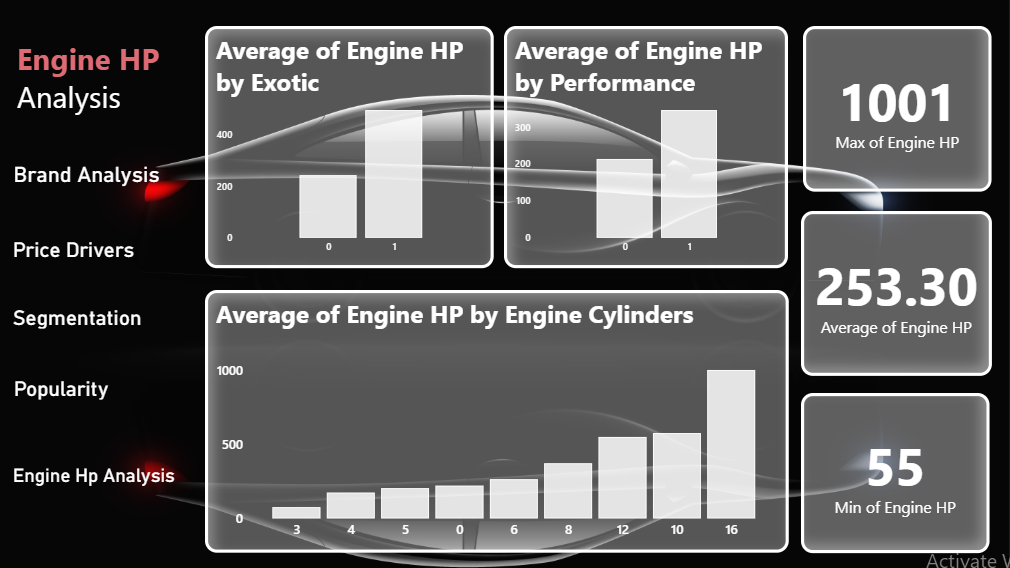

What the dashboard file says about the page in this screenshot:
{"tool":"powerbi","page":{"name":"Engine HP Anaylsis","canvas":[1280,720],"ordinal":4},"visuals":[{"type":"textbox","box":[0,0,233.3,720.4],"z":0},{"type":"actionButton","title":"Brand Analysis","box":[15.1,204.5,216.8,54.9],"z":1000},{"type":"actionButton","title":"Price Drivers","box":[16.5,300.5,164.7,60.4],"z":2000},{"type":"actionButton","title":"Segmentation","box":[16.5,387,190.7,60.4],"z":3000},{"type":"textbox","box":[16.9,43.4,216,118.2],"z":4000},{"type":"clusteredColumnChart","fields":{"Category":["Sheet1.Engine Cylinders"],"Y":["Avg(Sheet1.Engine HP)"]},"box":[259.3,367.8,739.6,333.4],"z":5000},{"type":"clusteredColumnChart","fields":{"Category":["Sheet1.Exotic"],"Y":["Avg(Sheet1.Engine HP)"]},"box":[259.3,32.9,366.4,307.4],"z":6000},{"type":"clusteredColumnChart","fields":{"Category":["Sheet1.Performance"],"Y":["Avg(Sheet1.Engine HP)"]},"box":[639.5,32.9,359.5,307.4],"z":7000},{"type":"card","fields":{"Values":["Max(Sheet1.Engine HP)"]},"box":[1018.2,32.9,238.8,209.9],"z":8000},{"type":"card","fields":{"Values":["Avg(Sheet1.Engine HP)"]},"box":[1015.4,267.6,241.5,208.6],"z":9000},{"type":"card","fields":{"Values":["Min(Sheet1.Engine HP)"]},"box":[1015.4,498.1,238.8,203.1],"z":10000},{"type":"actionButton","title":"Engine Hp Analysis","box":[16.5,590.1,229.2,61.7],"z":11000},{"type":"actionButton","title":"Popularity","box":[17.8,476.2,189.4,59],"z":12000}]}

Visuals, with their boxes in screenshot pixels (x1, y1, x2, y2), scaled from the page's 1280x720 canvas onto the 1010x568 screenshot:
textbox: crop(0, 0, 184, 567)
"Brand Analysis" actionButton: crop(12, 161, 183, 205)
"Price Drivers" actionButton: crop(13, 237, 143, 285)
"Segmentation" actionButton: crop(13, 305, 163, 353)
textbox: crop(13, 34, 184, 127)
clusteredColumnChart - Sheet1.Engine Cylinders x Avg(Sheet1.Engine HP): crop(205, 290, 788, 553)
clusteredColumnChart - Sheet1.Exotic x Avg(Sheet1.Engine HP): crop(205, 26, 494, 268)
clusteredColumnChart - Sheet1.Performance x Avg(Sheet1.Engine HP): crop(505, 26, 788, 268)
card - Max(Sheet1.Engine HP): crop(803, 26, 992, 192)
card - Avg(Sheet1.Engine HP): crop(801, 211, 992, 376)
card - Min(Sheet1.Engine HP): crop(801, 393, 990, 553)
"Engine Hp Analysis" actionButton: crop(13, 466, 194, 514)
"Popularity" actionButton: crop(14, 376, 163, 422)
